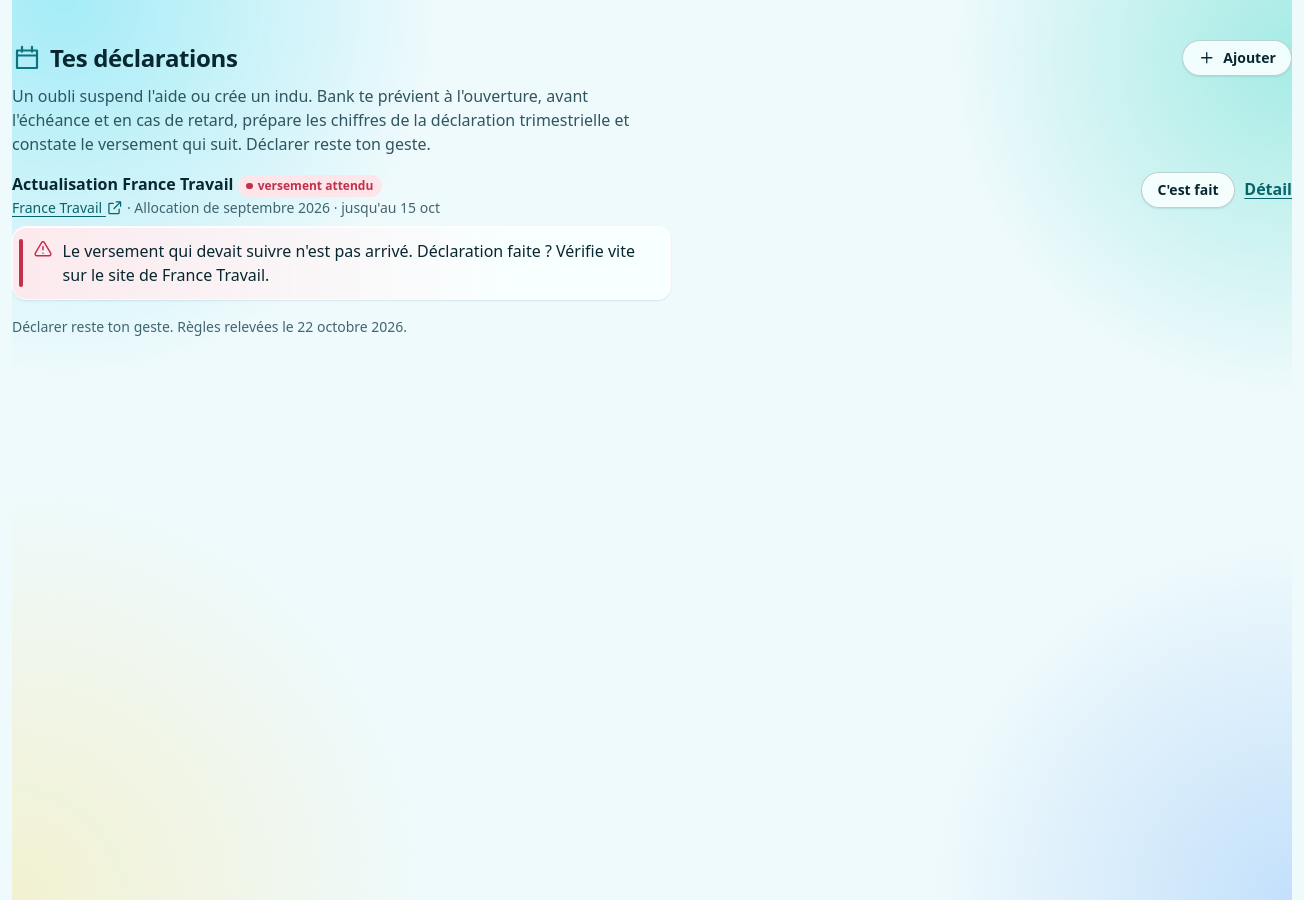
Scenario: tes déclarations › montre l'urgence quand le versement attendu manque, et le détail avec sa source
The width and height of the screenshot is (1304, 900).
Expected: the text with class "tag" reads "versement attendu", top-left (258, 177), bottom-right (373, 194)
Expected: the element with class "danger" shows "Déclaration faite ?", top-left (63, 240), bottom-right (635, 286)
Click the button "Détail".
click(1268, 190)  # box top-left (1244, 175), bottom-right (1292, 205)
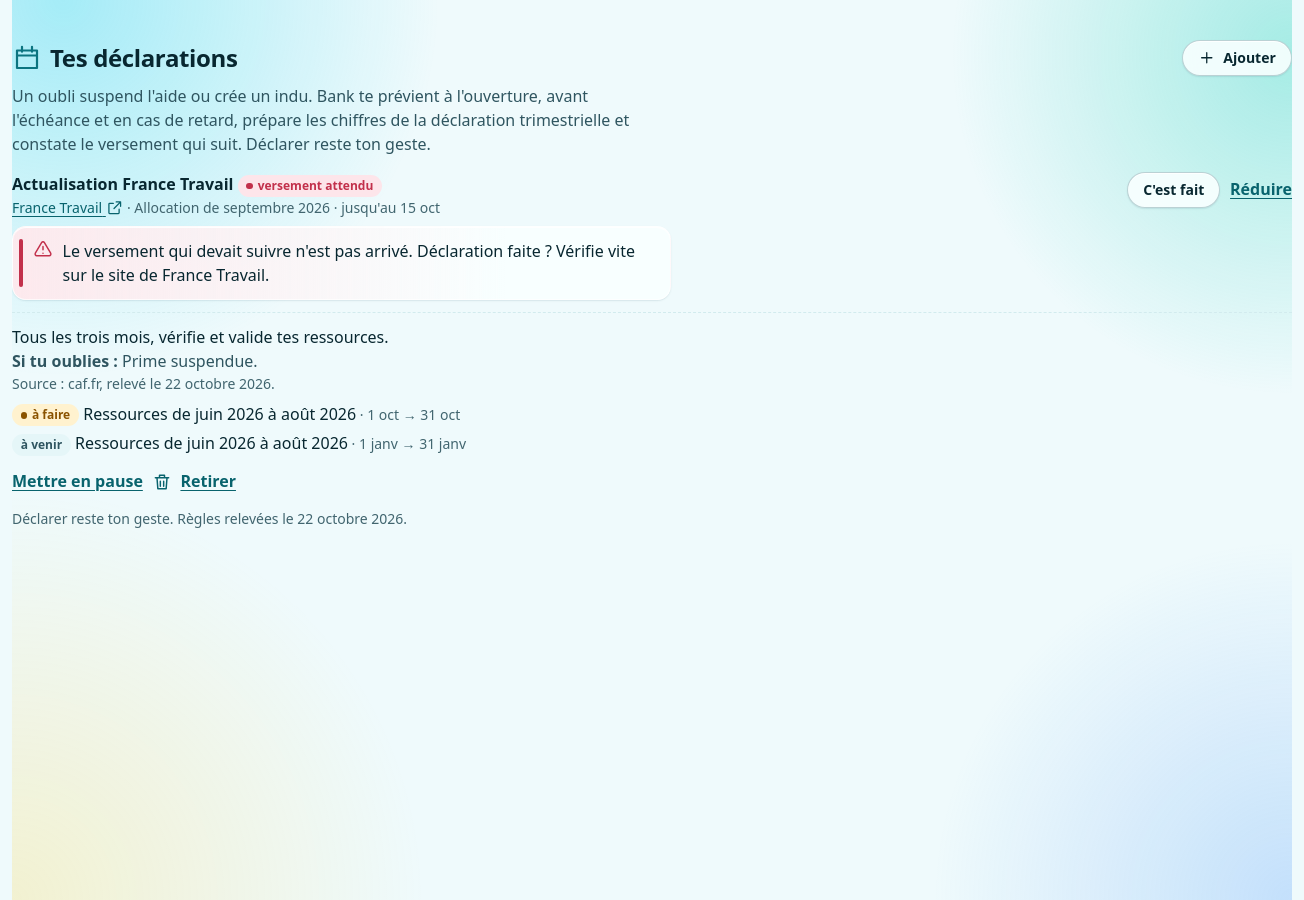
Expected: the text "Source : caf.fr, relevé le 22 octobre 2026" is shown, top-left (12, 374), bottom-right (275, 393)
Expected: the text "Si tu oublies :" is shown, top-left (12, 350), bottom-right (118, 372)
